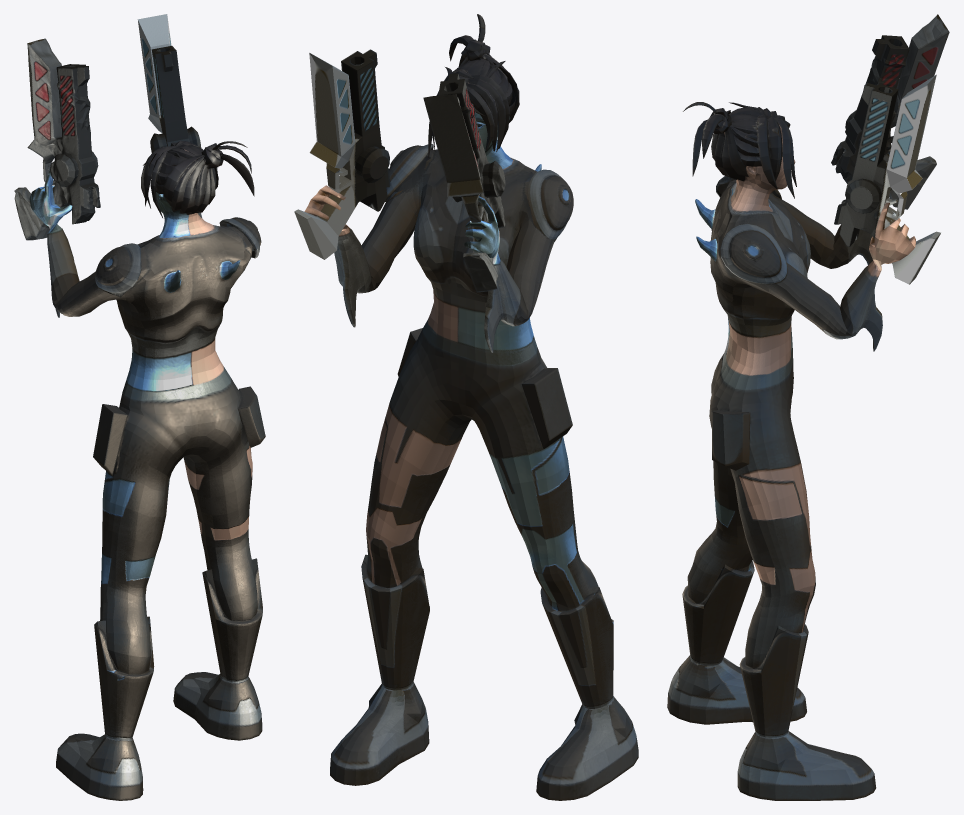
The picture shows the model from 3 angles, left to right: view 1: azimuth 30°, elevation 25°; view 2: azimuth 150°, elevation 25°; view 3: azimuth 270°, elevation 25°; orthographic projection. The views are drawn at different scales.
Visible parts, largest first — view 1: Dex_LOW_Plane.001; view 2: Dex_LOW_Plane.001; view 3: Dex_LOW_Plane.001.
Boxes of the visible parts, x1,y1,x2,y2 form: Dex_LOW_Plane.001: [14, 14, 265, 800]; Dex_LOW_Plane.001: [294, 14, 638, 800]; Dex_LOW_Plane.001: [667, 14, 949, 800].
Bounding box in the file's own units: 1.63 × 5.08 × 1.83.
